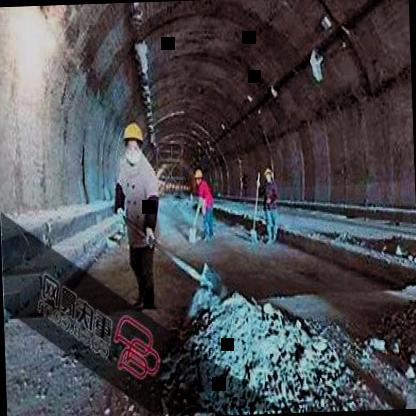helmet: (122, 119, 145, 162), (193, 164, 206, 190)
